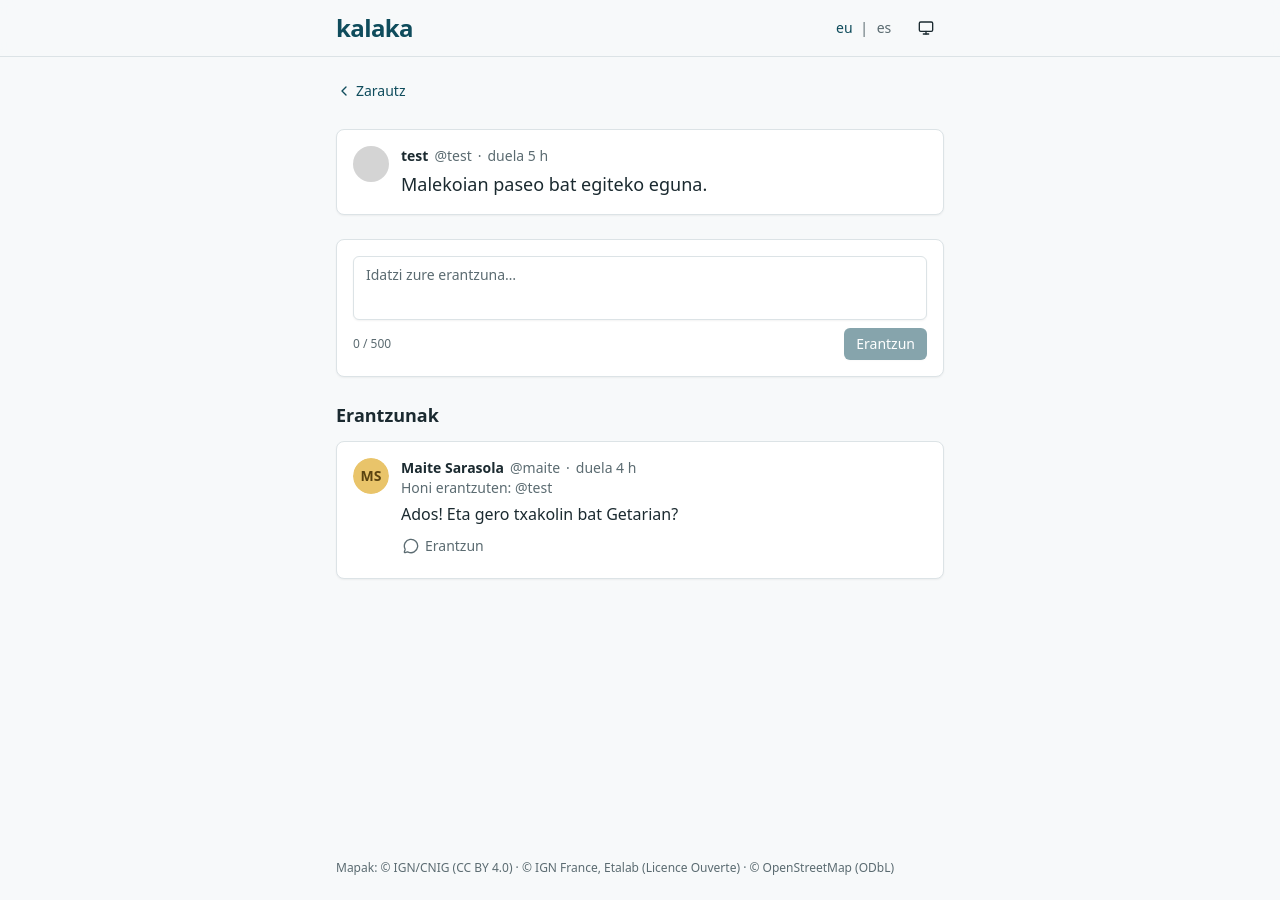
Test: post page › adds a new reply at the top of the list
This screenshot has width=1280, height=900.
In the text box named "Idatzi erantzun bat": coordinates (640, 288) top-left (353, 256), bottom-right (927, 320), type "Bihar arratsaldean bai!"
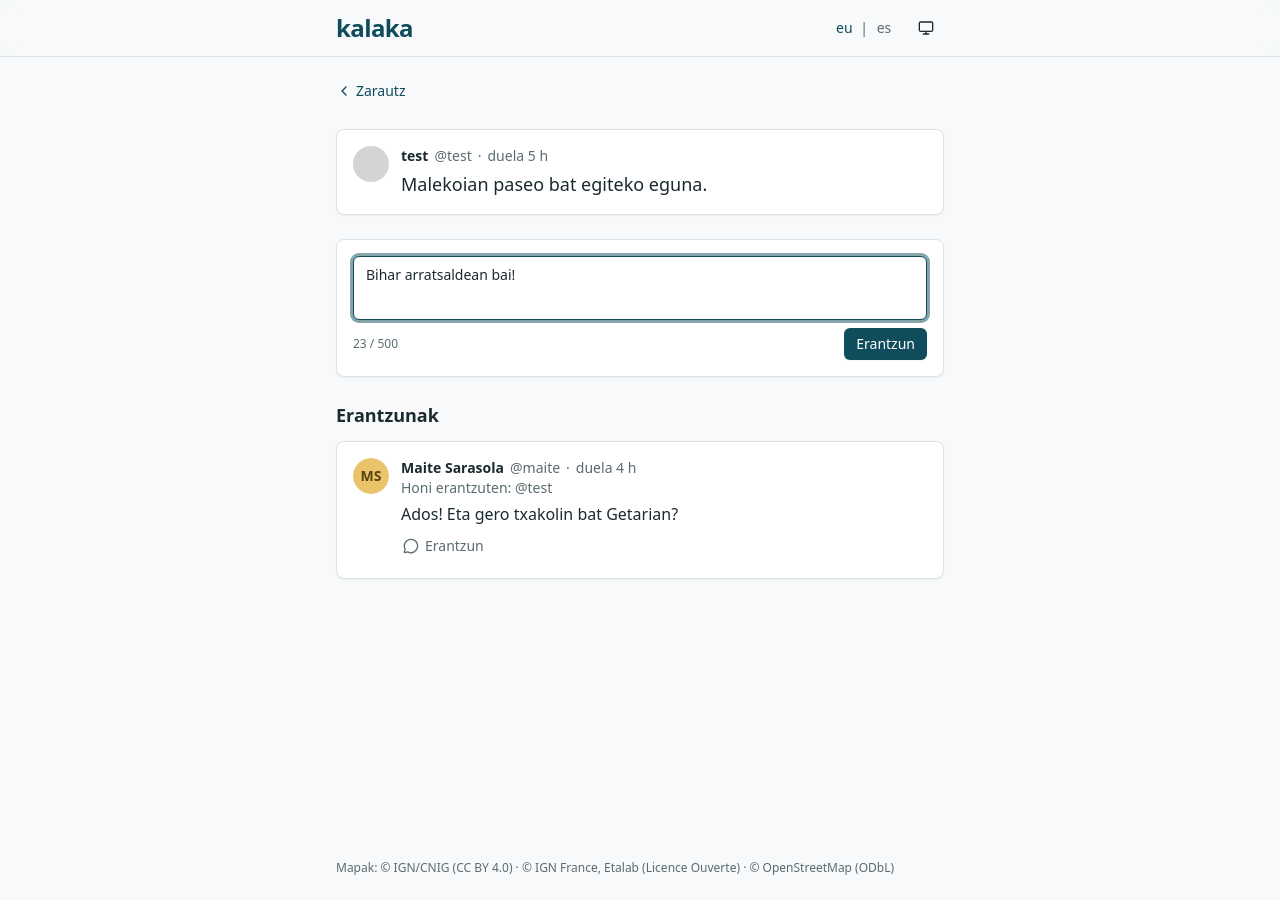
Click the button "Erantzun": coordinates (886, 344) top-left (844, 328), bottom-right (927, 360)
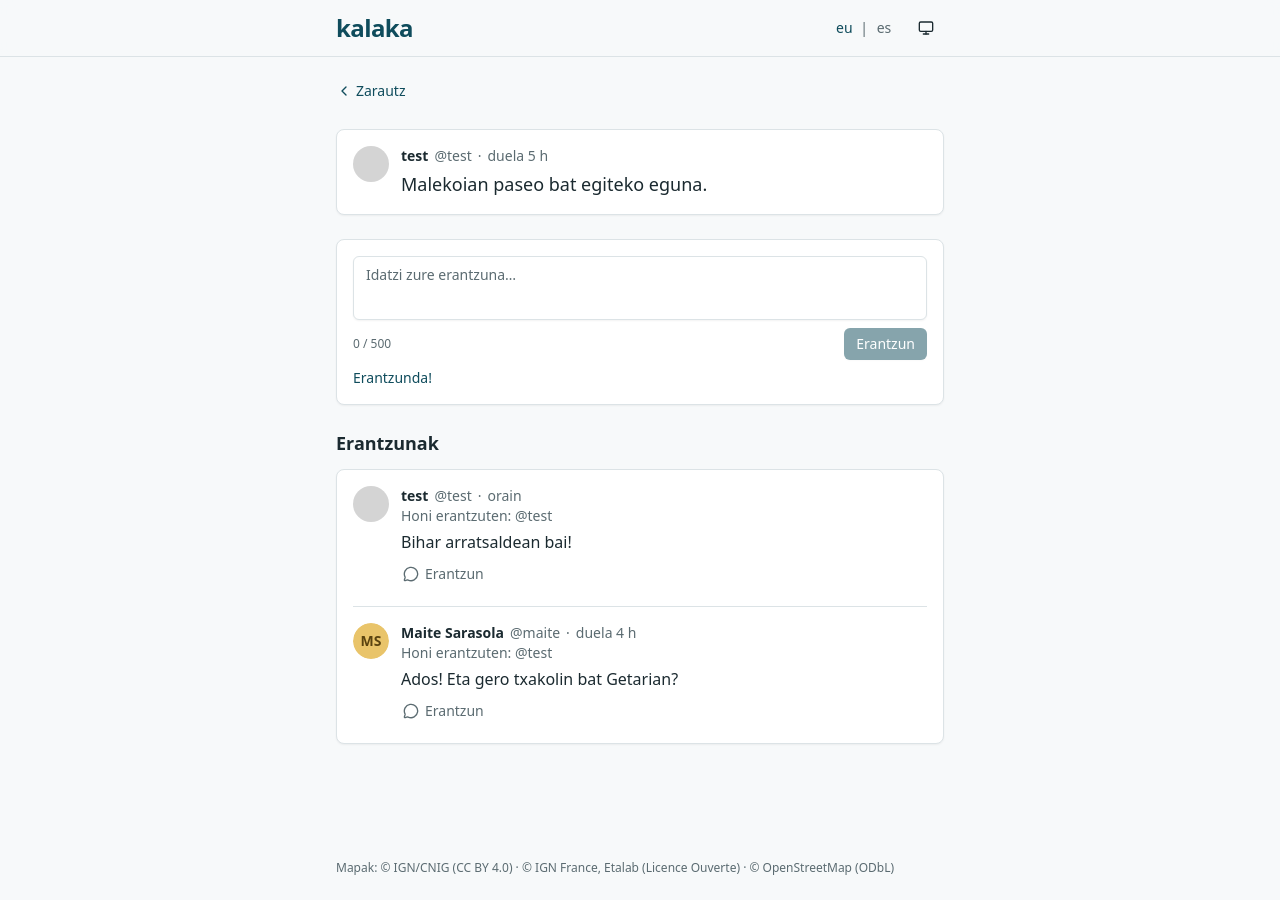
Result: the text "Erantzunda!" is shown at top-left (353, 368), bottom-right (432, 387)
Result: the element that starts with "test" shows "Bihar arratsaldean bai!" at top-left (401, 530), bottom-right (927, 554)
Result: the element that starts with "test" shows "Honi erantzuten: @test" at top-left (401, 506), bottom-right (552, 525)
